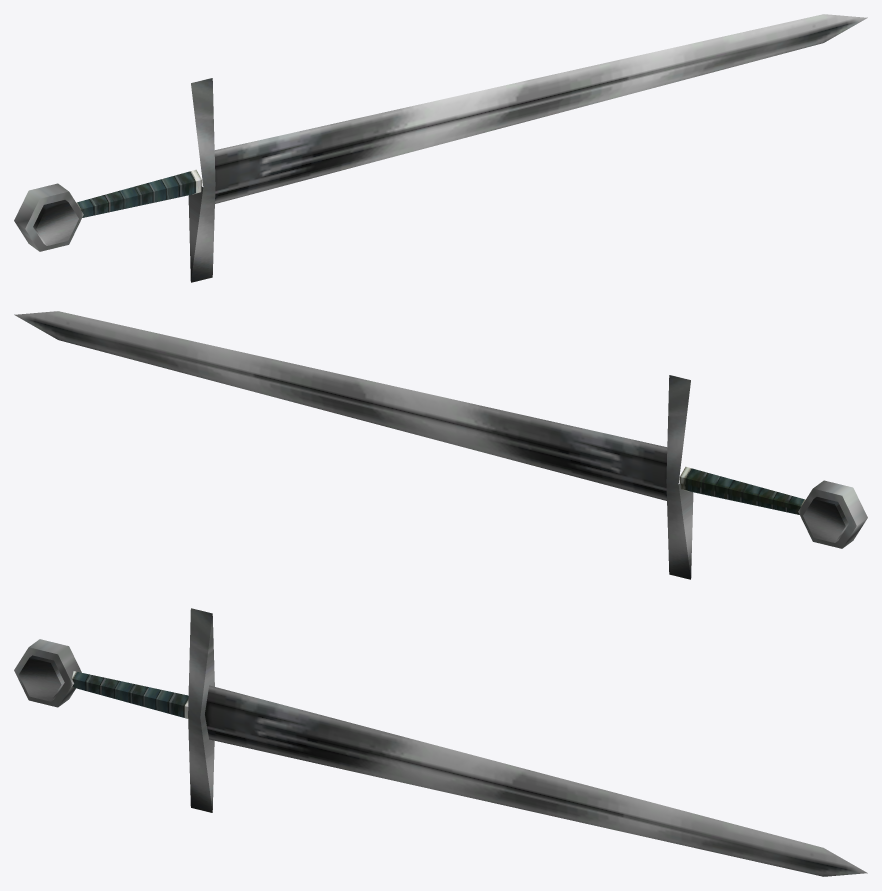
3 renders of one model, top to bottom at view 1: azimuth 30°, elevation 25°; view 2: azimuth 150°, elevation 25°; view 3: azimuth 330°, elevation 25°, orthographic.
Parts seen in each view (by area): view 1: it10649; view 2: it10649; view 3: it10649.
Part boxes in pixels (x1=…): it10649: x1=14, y1=14, x2=867, y2=282; it10649: x1=14, y1=311, x2=867, y2=579; it10649: x1=14, y1=608, x2=867, y2=876.
Size of the model in its own units: 2.96 by 0.6653 by 0.1057.
Materials: 3 (2 with a texture image).
